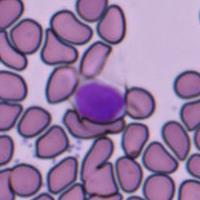L: (73, 79, 125, 123)
